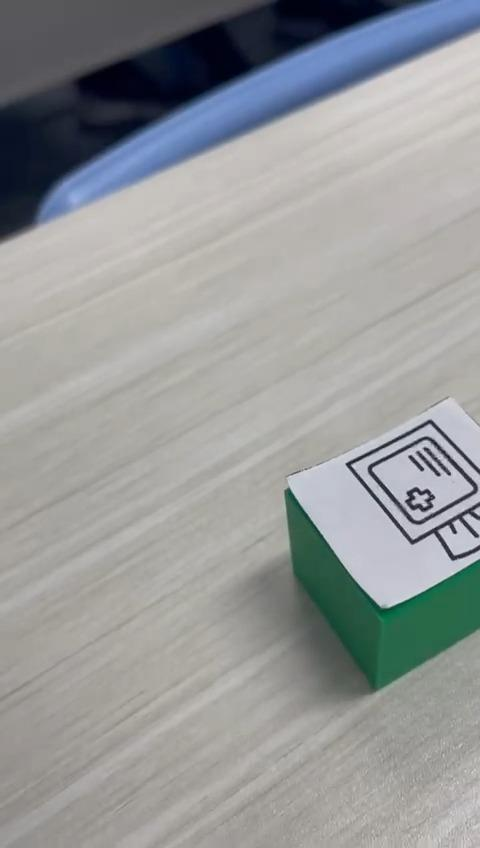Gauze: (282, 394, 479, 691)
